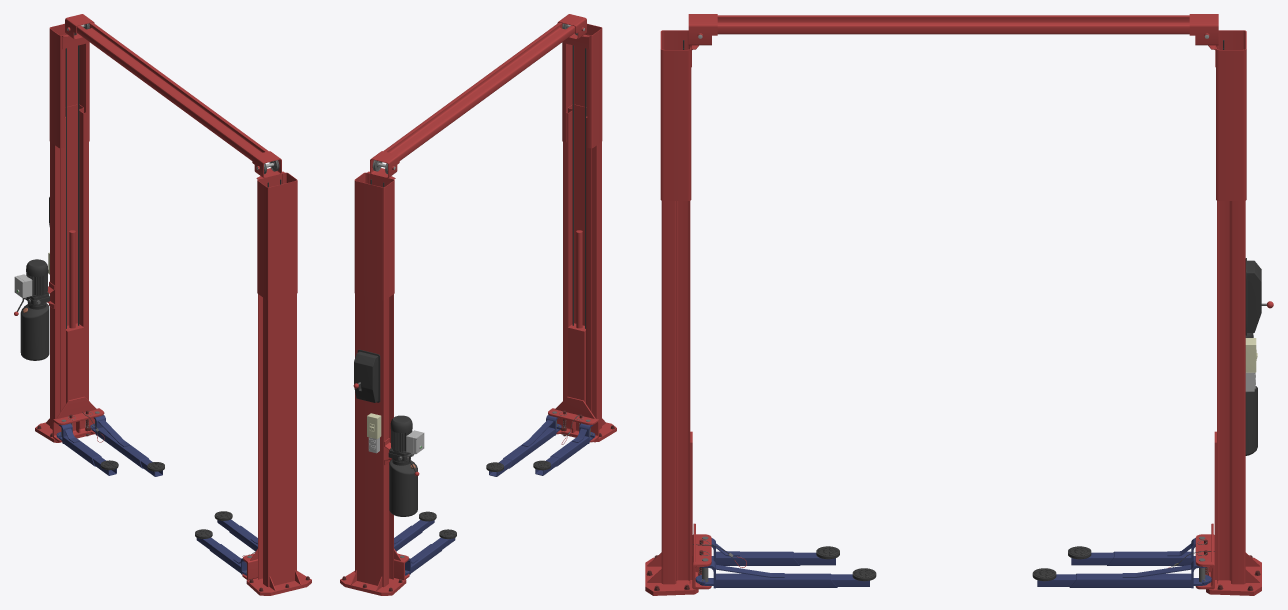
The model's file is elevador_2postes.fbx.
The picture shows the model from 3 angles, left to right: view 1: azimuth 30°, elevation 25°; view 2: azimuth 150°, elevation 25°; view 3: azimuth 270°, elevation 25°; orthographic projection. The views are drawn at different scales.
Parts seen in each view (by area): view 1: pCube2 (×2), pCube7 (×2), polySurface2 (×2), pCylinder70, pCube13, polySurface1 (×2), pCube14 (×2), pCube10, pCylinder11, pCube1, pCube19, pCylinder12 (+1 smaller); view 2: pCube2 (×2), pCube7 (×2), polySurface2 (×2), pCylinder70, pCube13, pCube23, polySurface1 (×2), pCube14 (×2), pCube10, pCylinder11, pCube1, pCube19 (+3 smaller); view 3: pCube2 (×2), pCube7 (×2), polySurface2 (×2), pCube19 (×2), pCube14 (×2), polySurface1 (×2), pCube1 (×2), pCube23, pCylinder70.
Part boxes in pixels (left/top/right/bottom): pCube2 (×2): left=50, top=104, right=296, bottom=587; pCube7 (×2): left=49, top=23, right=297, bottom=300; polySurface2 (×2): left=76, top=22, right=268, bottom=160; pCylinder70: left=20, top=303, right=49, bottom=360; pCube13: left=66, top=323, right=84, bottom=403; polySurface1 (×2): left=65, top=14, right=281, bottom=178; pCube14 (×2): left=63, top=436, right=240, bottom=573; pCube10: left=52, top=408, right=104, bottom=442; pCylinder11: left=69, top=230, right=75, bottom=328; pCube1: left=246, top=571, right=311, bottom=595; pCube19: left=96, top=427, right=148, bottom=468; pCylinder12: left=78, top=45, right=79, bottom=325; pCube2 (×2): left=355, top=104, right=601, bottom=587; pCube7 (×2): left=354, top=23, right=602, bottom=300; polySurface2 (×2): left=383, top=22, right=575, bottom=160; pCylinder70: left=389, top=459, right=417, bottom=516; pCube13: left=567, top=323, right=585, bottom=403; pCube23: left=354, top=349, right=380, bottom=402; polySurface1 (×2): left=370, top=14, right=586, bottom=178; pCube14 (×2): left=411, top=436, right=588, bottom=573; pCube10: left=548, top=408, right=599, bottom=442; pCylinder11: left=576, top=230, right=582, bottom=328; pCube1: left=340, top=571, right=406, bottom=595; pCube19: left=503, top=427, right=555, bottom=468; pCube2 (×2): left=661, top=201, right=1245, bottom=584; pCube7 (×2): left=660, top=30, right=1246, bottom=200; polySurface2 (×2): left=717, top=15, right=1189, bottom=34; pCube19 (×2): left=716, top=573, right=1191, bottom=587; pCube14 (×2): left=716, top=551, right=1191, bottom=565; polySurface1 (×2): left=688, top=14, right=1218, bottom=45; pCube1 (×2): left=645, top=557, right=1261, bottom=595; pCube23: left=1245, top=258, right=1261, bottom=335; pCylinder70: left=1245, top=386, right=1257, bottom=455.
Bounding box in the file's own units: 7.29 × 38.45 × 39.12.
